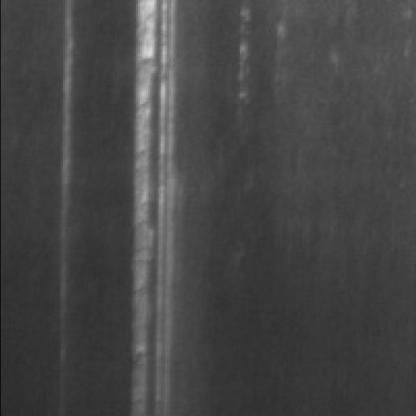scratches: (129, 0, 187, 404), (58, 0, 87, 366)
